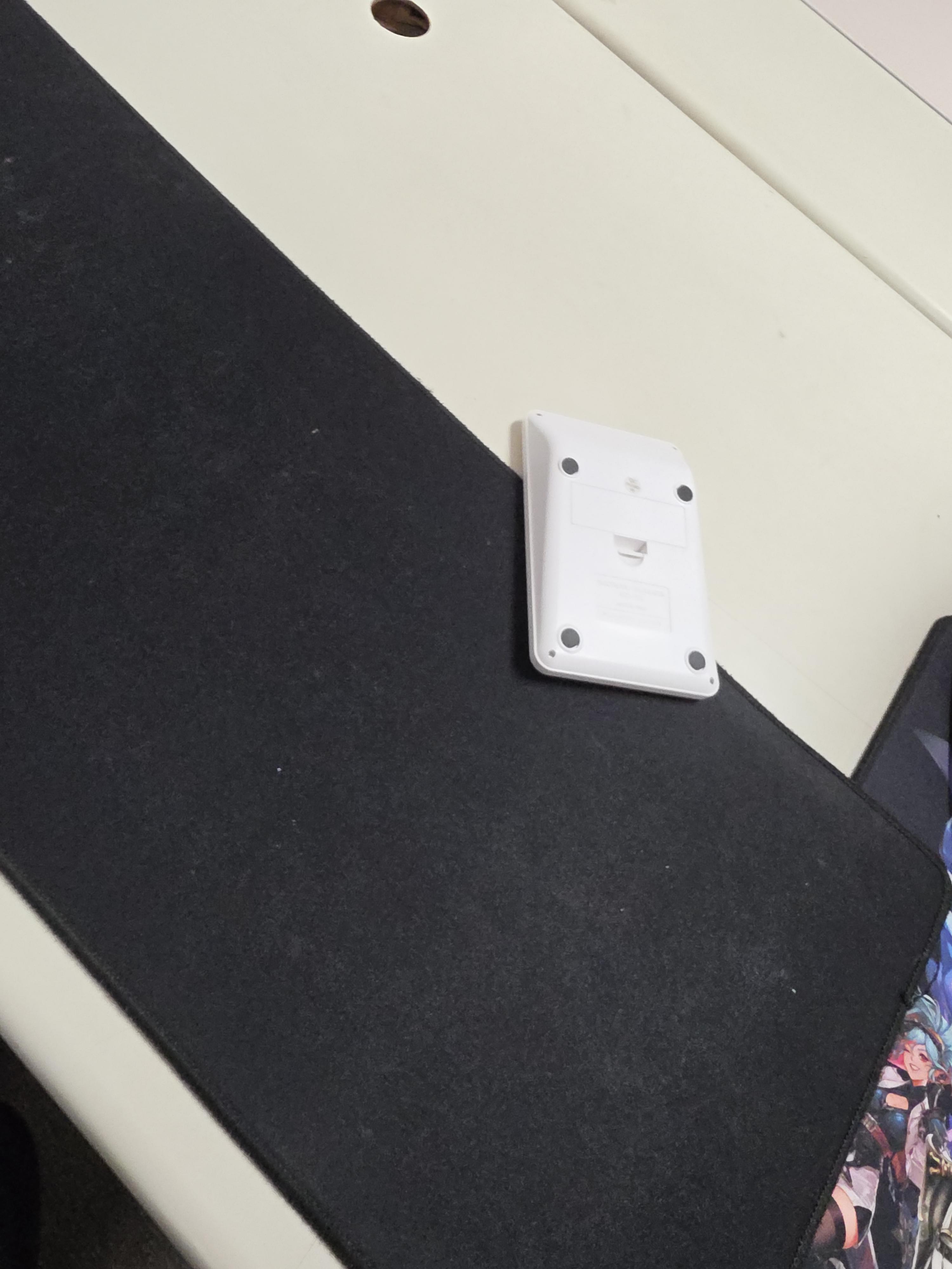calculator: (522, 409, 721, 700)
